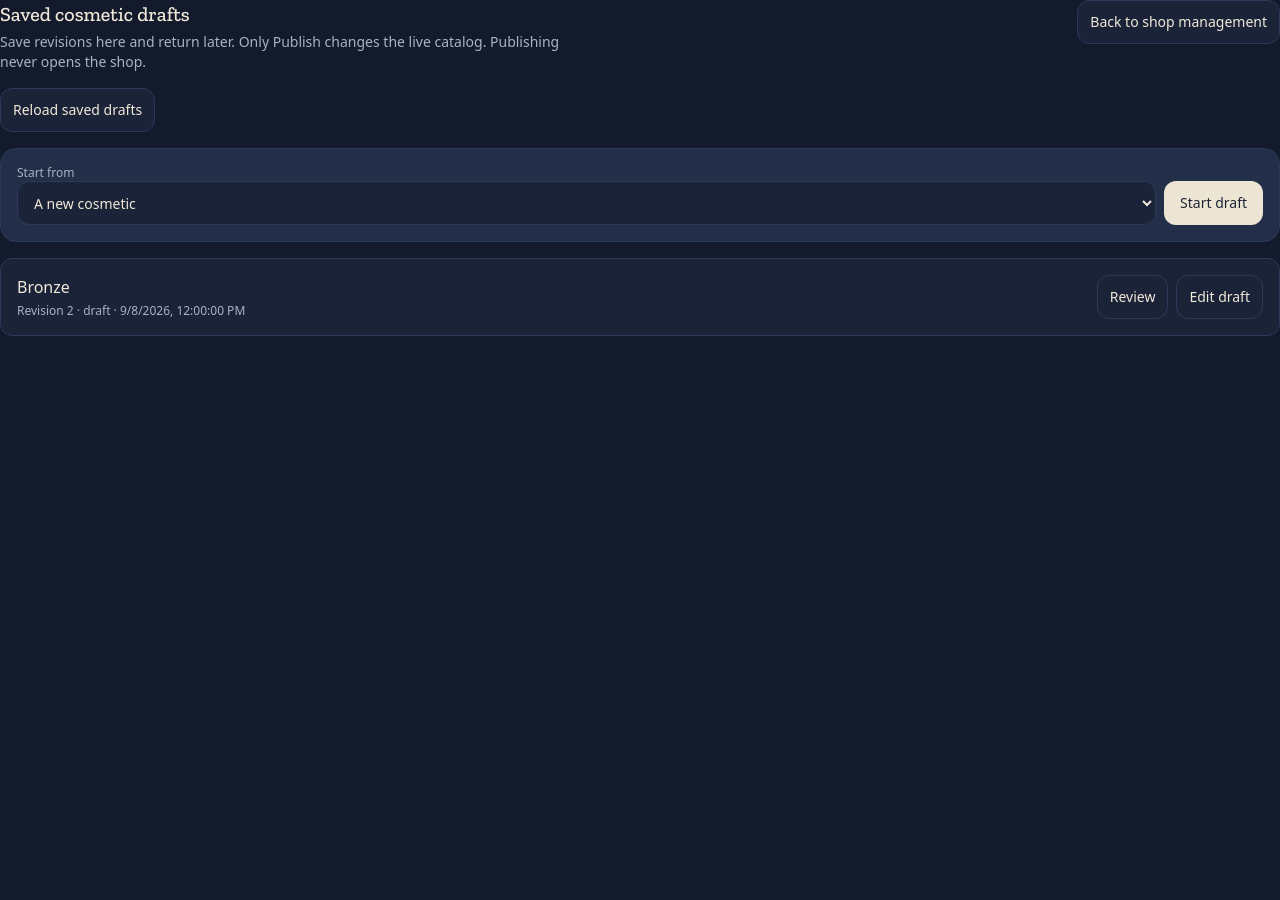
persistent draft workflow › saves an edited revision without publishing
Expected: the text "Revision 2 · draft · 9/8/2026, 12:00:00 PM" is shown, left=17, top=303, right=245, bottom=319
Click the button "Edit draft" at (1220, 297), box left=1176, top=275, right=1263, bottom=319
(page scrolled)
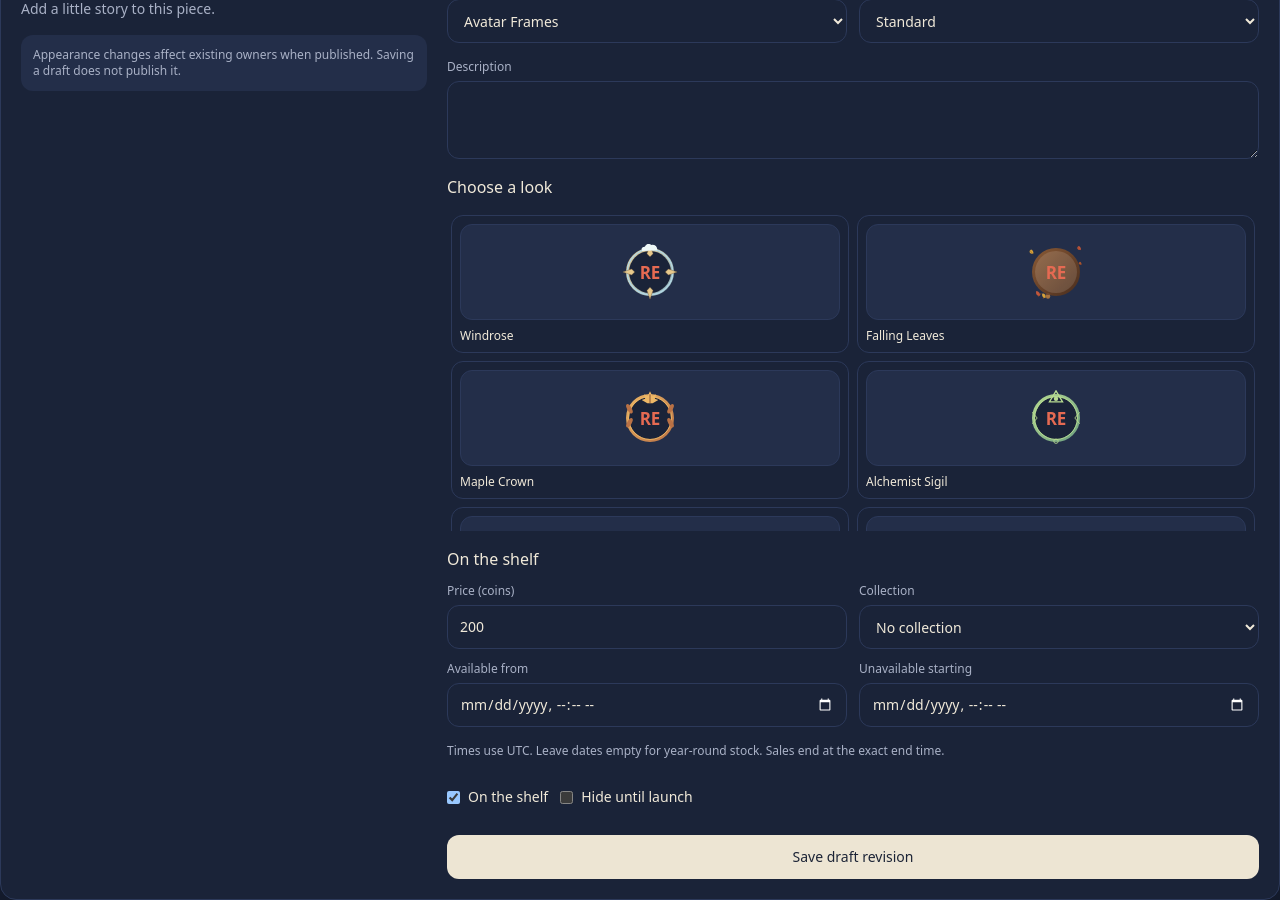
Replace the text in the number field labelled "Price (coins)" with "300" at (647, 627), box left=447, top=605, right=847, bottom=649
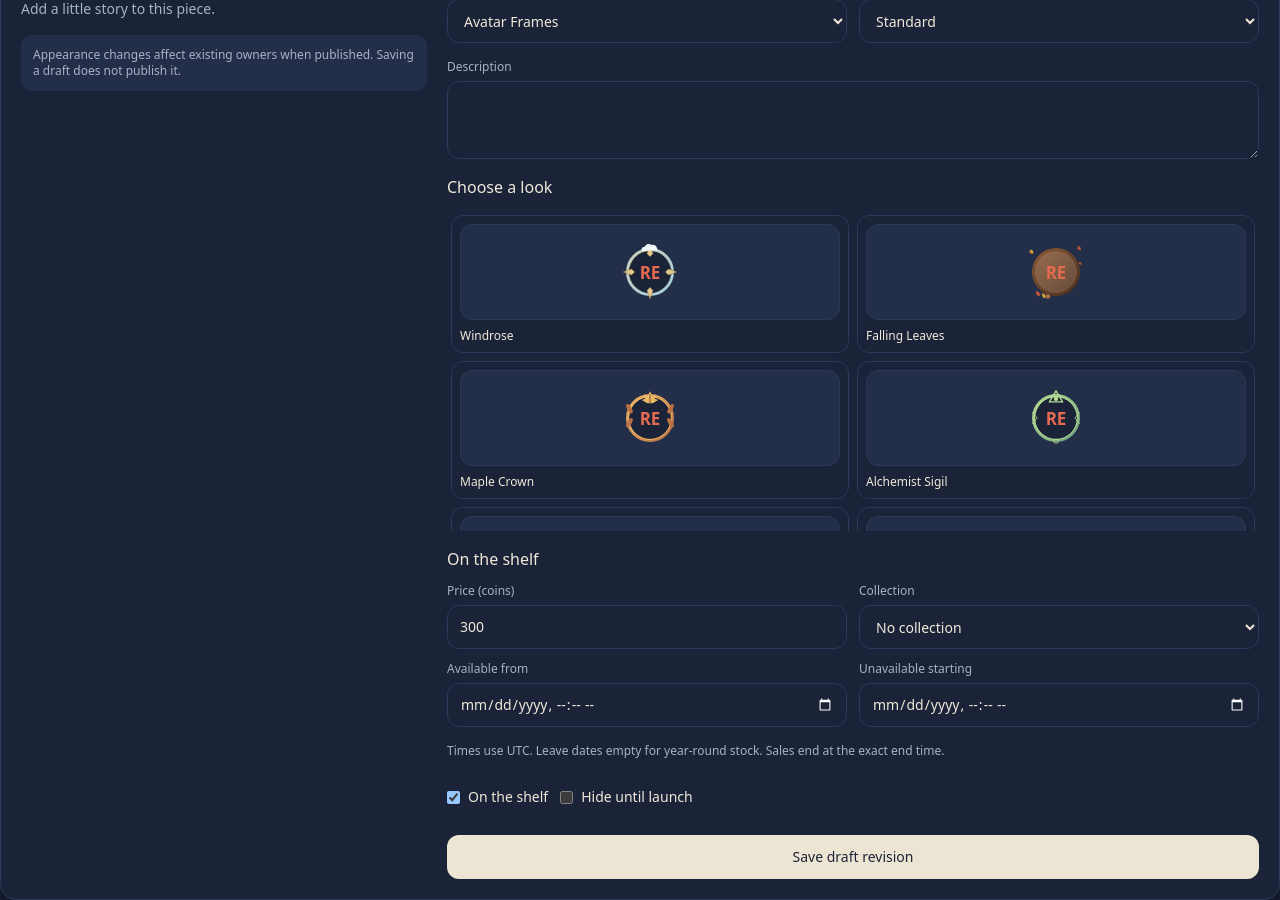
Click the button "Save draft revision" at (853, 857), box left=447, top=835, right=1259, bottom=879
(page scrolled)
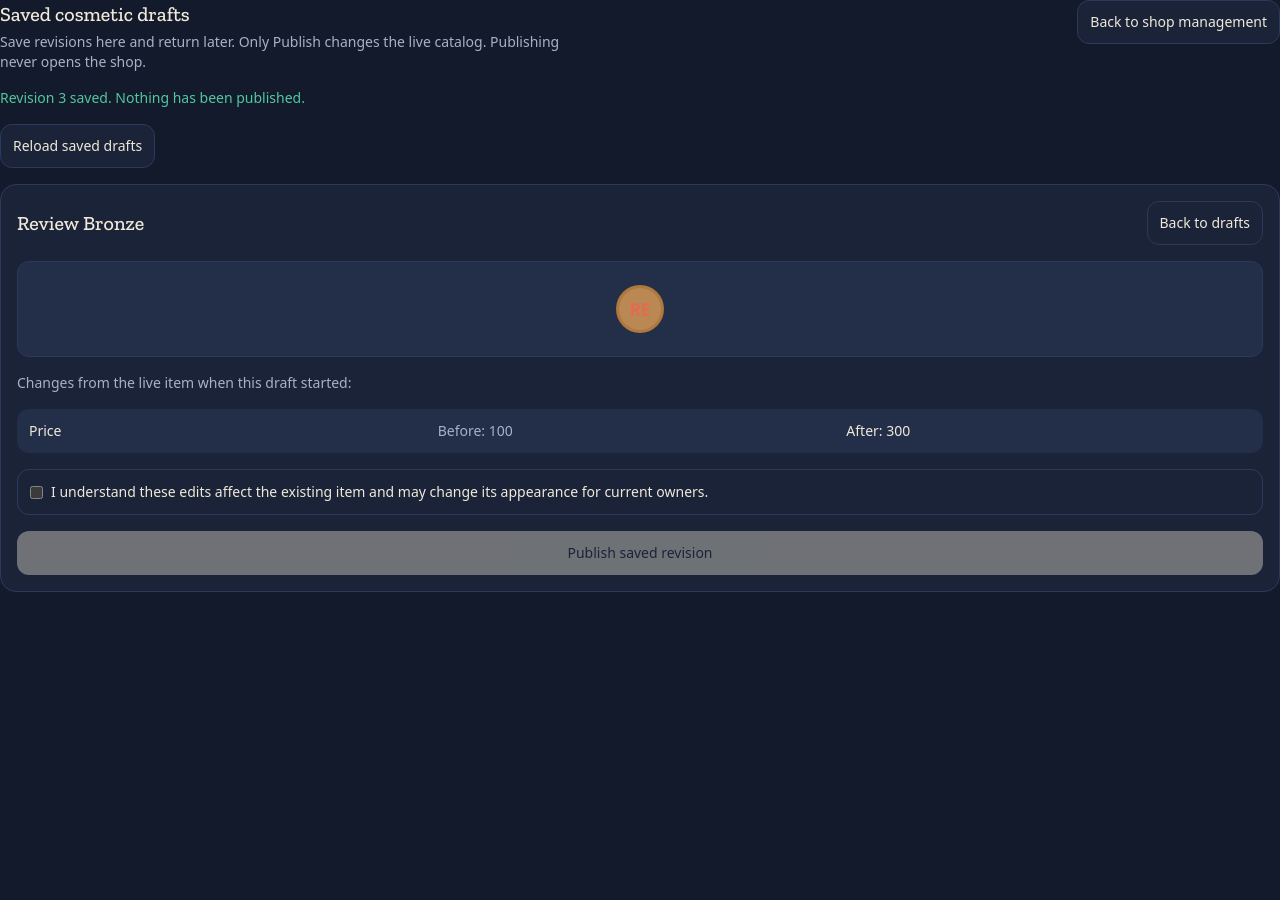
Result: the text "Revision 3 saved. Nothing has been published." is shown at left=0, top=88, right=305, bottom=107
